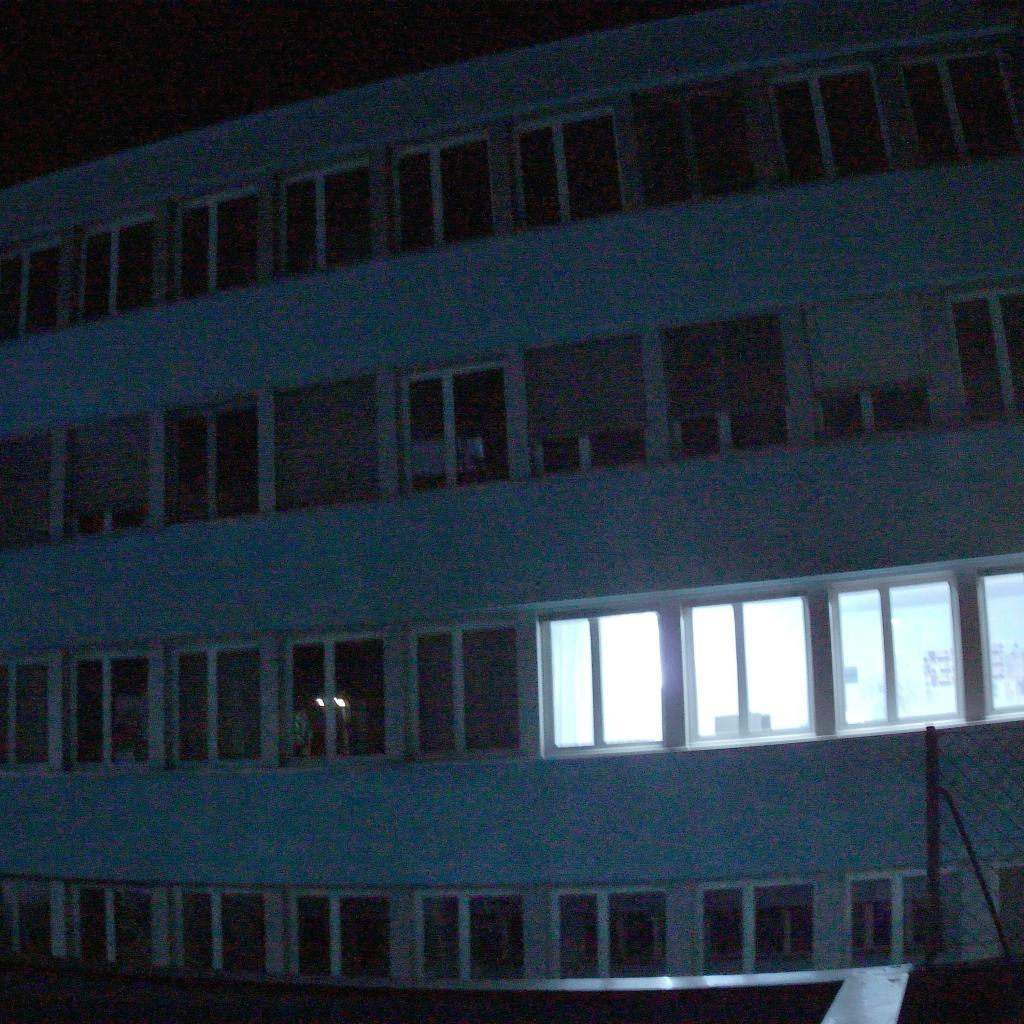facade: (0, 0, 1024, 992)
fence: (0, 966, 1024, 1024)
window: (826, 570, 969, 738), (678, 587, 817, 752), (802, 291, 933, 448), (538, 603, 666, 759), (660, 312, 791, 462), (523, 334, 648, 477), (765, 62, 897, 187), (284, 629, 398, 769), (409, 620, 521, 760), (634, 82, 756, 209), (897, 46, 1024, 167), (399, 358, 509, 495), (509, 103, 625, 231), (274, 374, 378, 510), (171, 638, 278, 770), (390, 129, 495, 255), (841, 865, 968, 969), (695, 876, 819, 976), (163, 397, 259, 526), (69, 646, 164, 771), (550, 884, 675, 979), (943, 284, 1024, 430), (412, 888, 536, 982), (278, 157, 373, 279), (61, 413, 150, 541), (289, 888, 404, 979), (173, 183, 258, 300), (173, 886, 279, 974), (75, 211, 153, 323), (72, 882, 170, 968), (974, 564, 1024, 724), (0, 651, 62, 771), (0, 429, 54, 554), (0, 235, 61, 345), (0, 877, 68, 958), (988, 858, 1024, 957)
